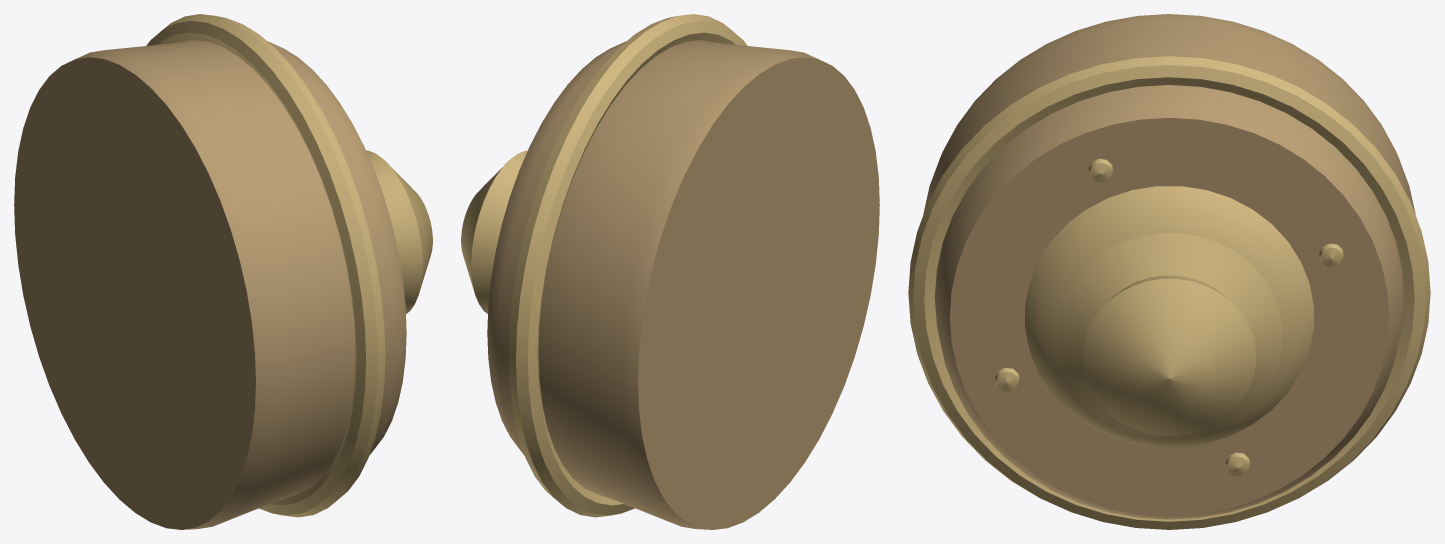
File: cryptex_cap_r.glb
3 views of the same model, side by side, from view 1: azimuth 30°, elevation 25°; view 2: azimuth 150°, elevation 25°; view 3: azimuth 270°, elevation 25° (orthographic).
Visible parts, largest first — view 1: cryptex_cap_r; view 2: cryptex_cap_r; view 3: cryptex_cap_r.
Boxes of the visible parts, x1,y1,x2,y2 form: cryptex_cap_r: (14,14,432,529); cryptex_cap_r: (461,14,879,529); cryptex_cap_r: (908,14,1430,529).
Size of the model in its own units: 0.106 by 0.164 by 0.164.
